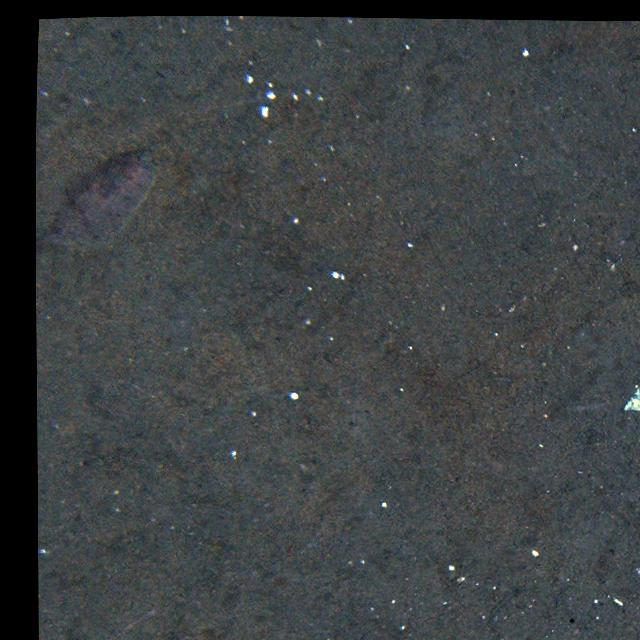flatfish: (50, 146, 158, 258)
